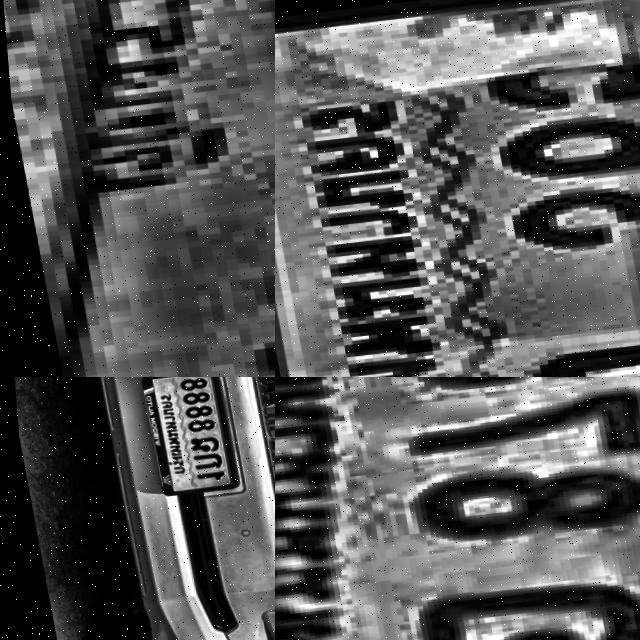license-plate: (275, 0, 640, 377), (0, 0, 275, 377), (275, 377, 640, 640), (128, 377, 239, 499)
